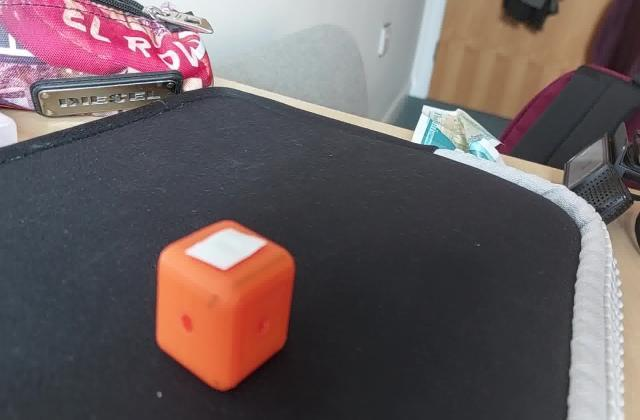cube: (152, 212, 300, 392)
white: (182, 224, 271, 276)
